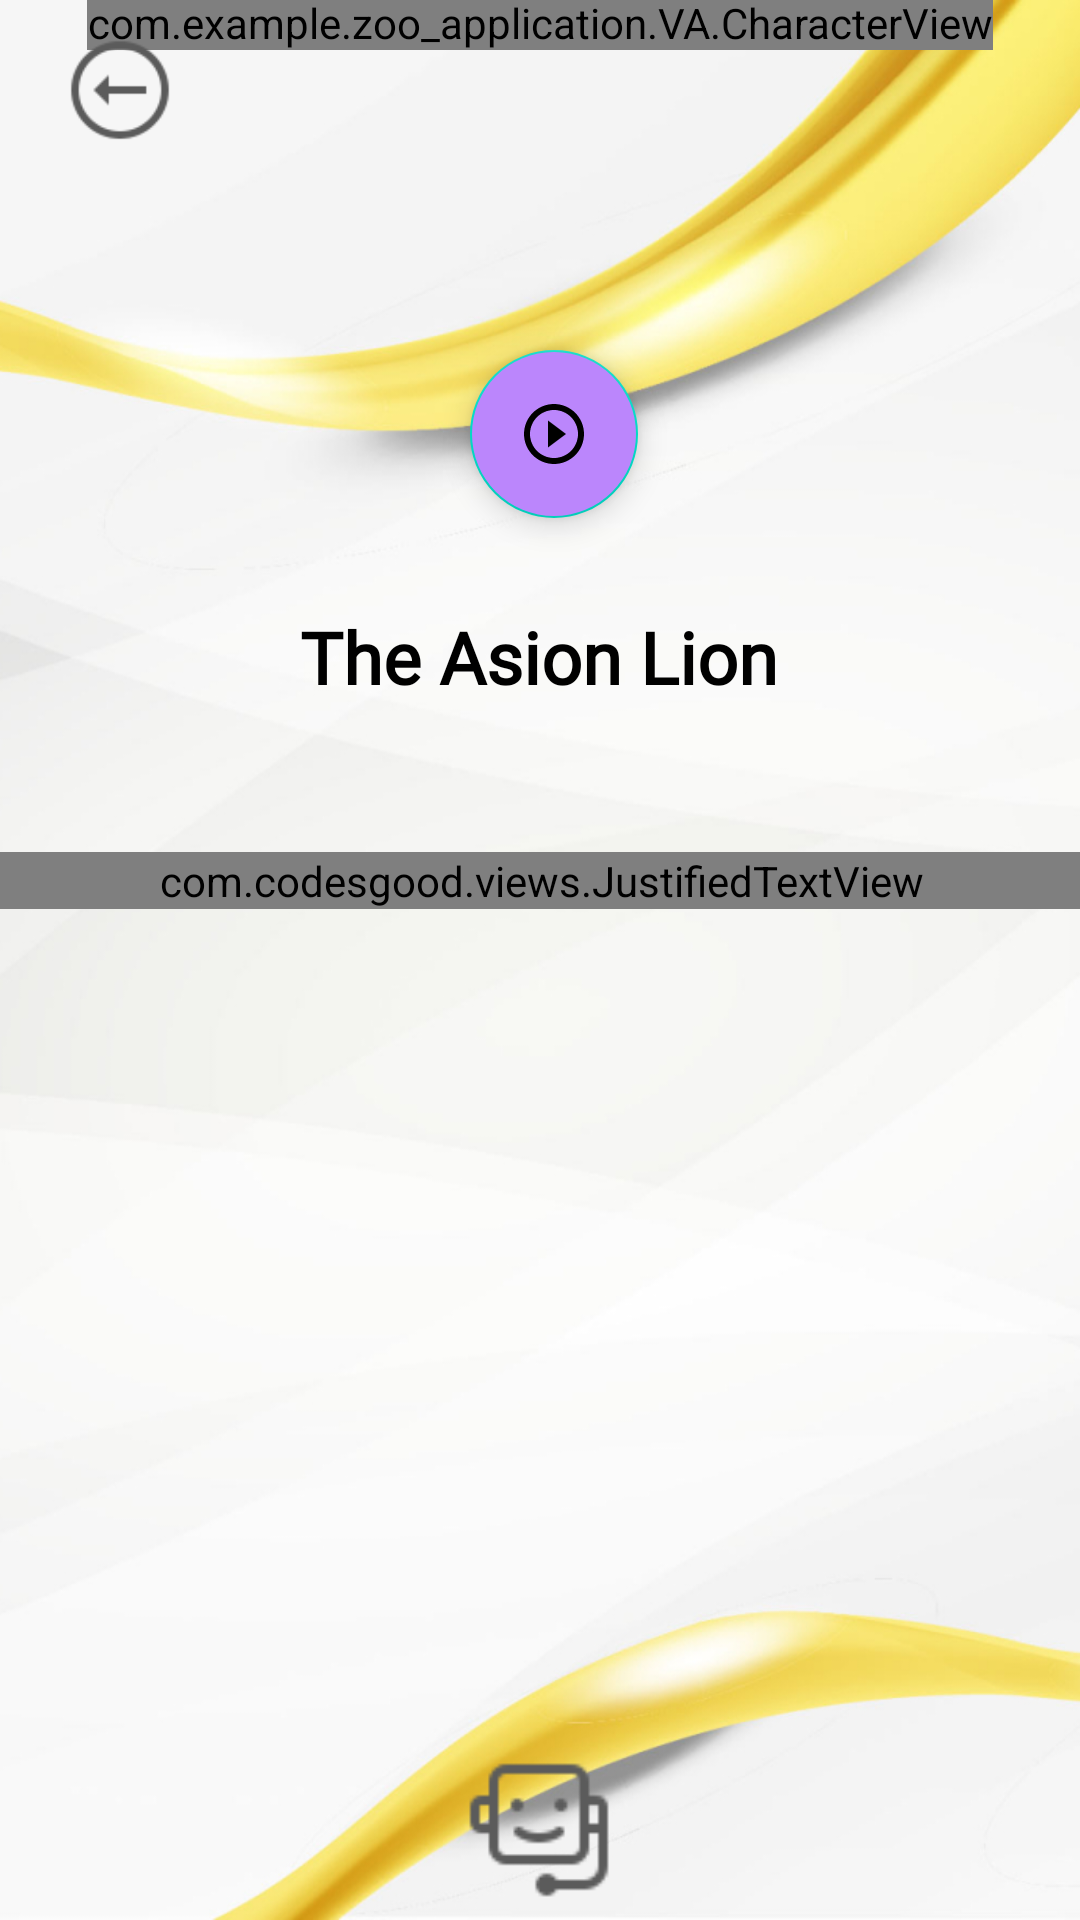

Named icons in this screenshot (1080 x 1920) and their centers, [x,y]:
back: [125,84]
chatbot: [539,1830]
play circle: [554,434]
